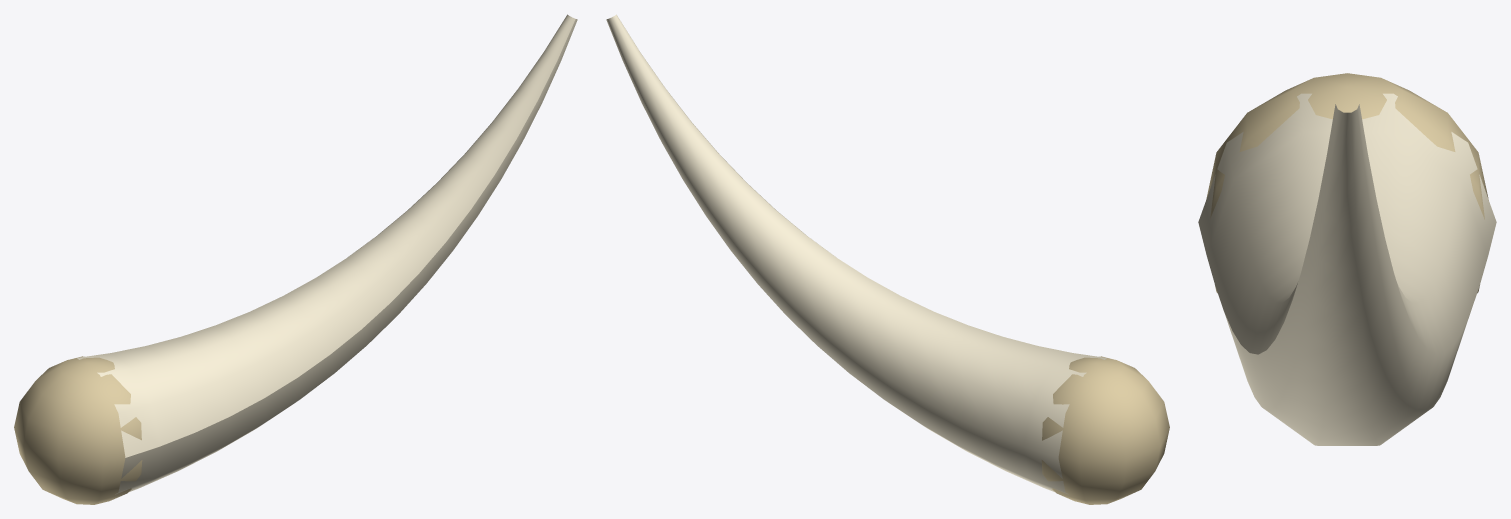
The model's file is boar_tusk.glb.
3 renders of one model, left to right at view 1: azimuth 30°, elevation 25°; view 2: azimuth 150°, elevation 25°; view 3: azimuth 270°, elevation 25°, orthographic. The views are drawn at different scales.
Parts seen in each view (by area): view 1: boar_tusk; view 2: boar_tusk; view 3: boar_tusk.
Part boxes in pixels (x1,y1,x2,y2): boar_tusk: (14,14,577,504); boar_tusk: (606,14,1169,504); boar_tusk: (1198,73,1496,445).
Size of the model in its own units: 0.1371 by 0.0866 by 0.032.
